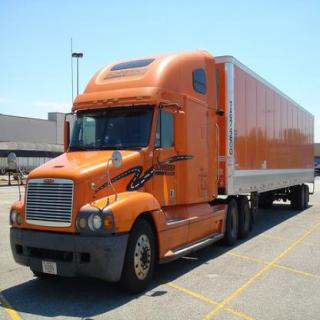Normal_vehicle: (2, 43, 316, 294)
